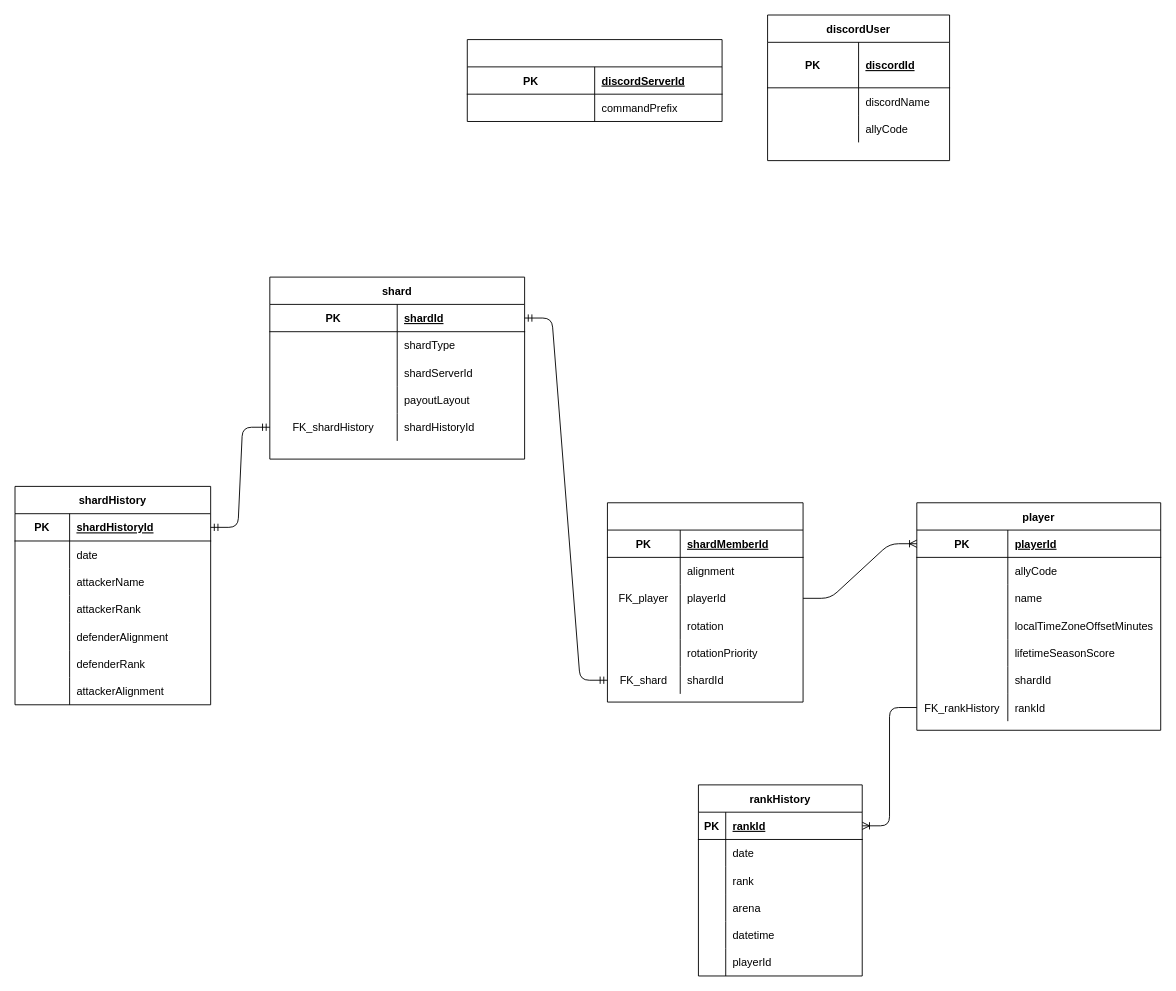
Image size: 1176x991. Some labels were removed from this diagram. The box of each missing label's shape, as (x1, y1, x2, y2) in pixels:
discordPrefix: (466, 39, 722, 121)
shardMembers: (607, 502, 803, 702)
